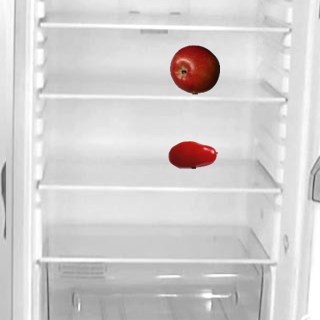Apple Braeburn: (169, 44, 219, 94)
Tomato 2: (167, 129, 217, 179)
